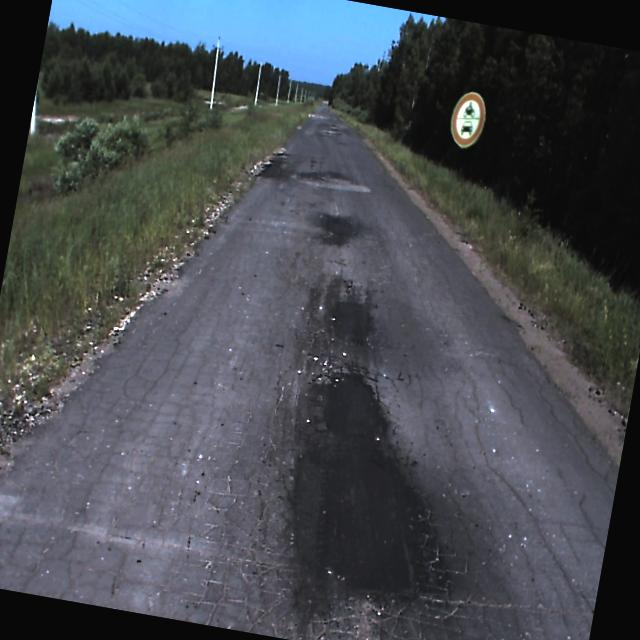road: (0, 107, 618, 640)
